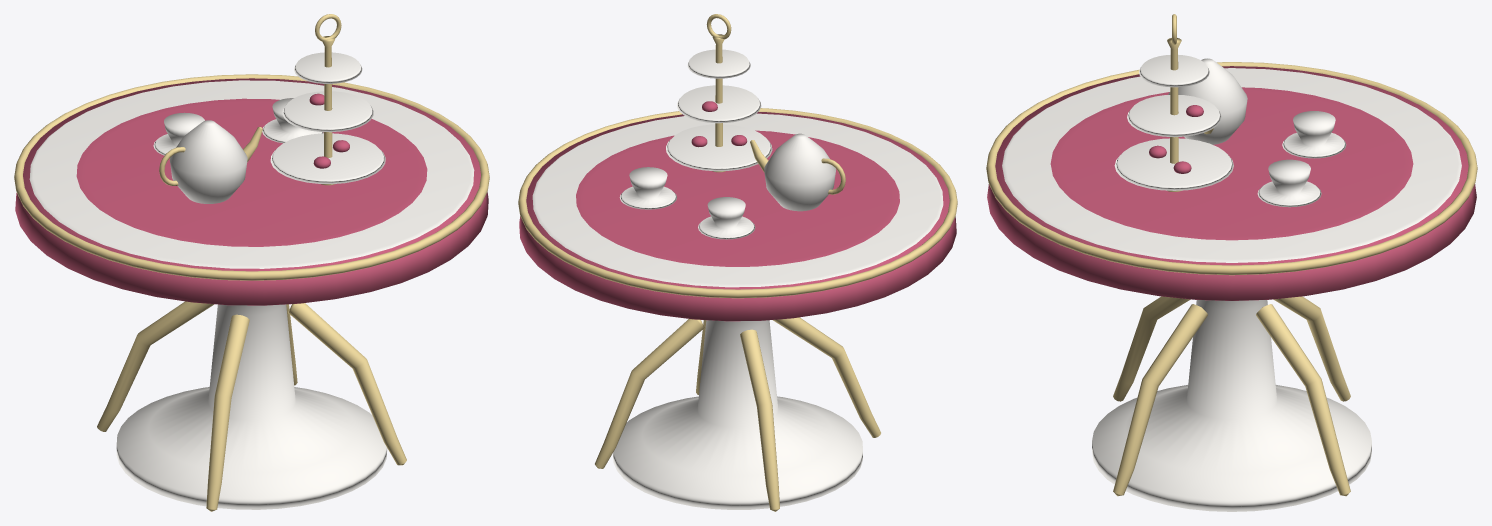
File: webtoon-rofan-imperial-tea-carriage-table-v15.glb
3 views of the same model, side by side, from view 1: azimuth 30°, elevation 25°; view 2: azimuth 150°, elevation 25°; view 3: azimuth 270°, elevation 25° (orthographic). The views are drawn at different scales.
Parts seen in each view (by area): view 1: ImperialBoneChinaTableAndSet, ImperialCrimsonVelvetAndPastries, ImperialFiligreeGoldFrame; view 2: ImperialBoneChinaTableAndSet, ImperialCrimsonVelvetAndPastries, ImperialFiligreeGoldFrame; view 3: ImperialBoneChinaTableAndSet, ImperialCrimsonVelvetAndPastries, ImperialFiligreeGoldFrame.
Part boxes in pixels (x1,y1,x2,y2): ImperialBoneChinaTableAndSet: (29,52,474,509); ImperialCrimsonVelvetAndPastries: (15,78,488,305); ImperialFiligreeGoldFrame: (14,14,489,511); ImperialBoneChinaTableAndSet: (532,49,943,509); ImperialCrimsonVelvetAndPastries: (519,101,956,321); ImperialFiligreeGoldFrame: (518,14,957,511); ImperialBoneChinaTableAndSet: (1002,54,1461,511); ImperialCrimsonVelvetAndPastries: (987,66,1476,300); ImperialFiligreeGoldFrame: (986,14,1477,496).
Bounding box in the file's own units: 1.19 × 1.24 × 1.19.
